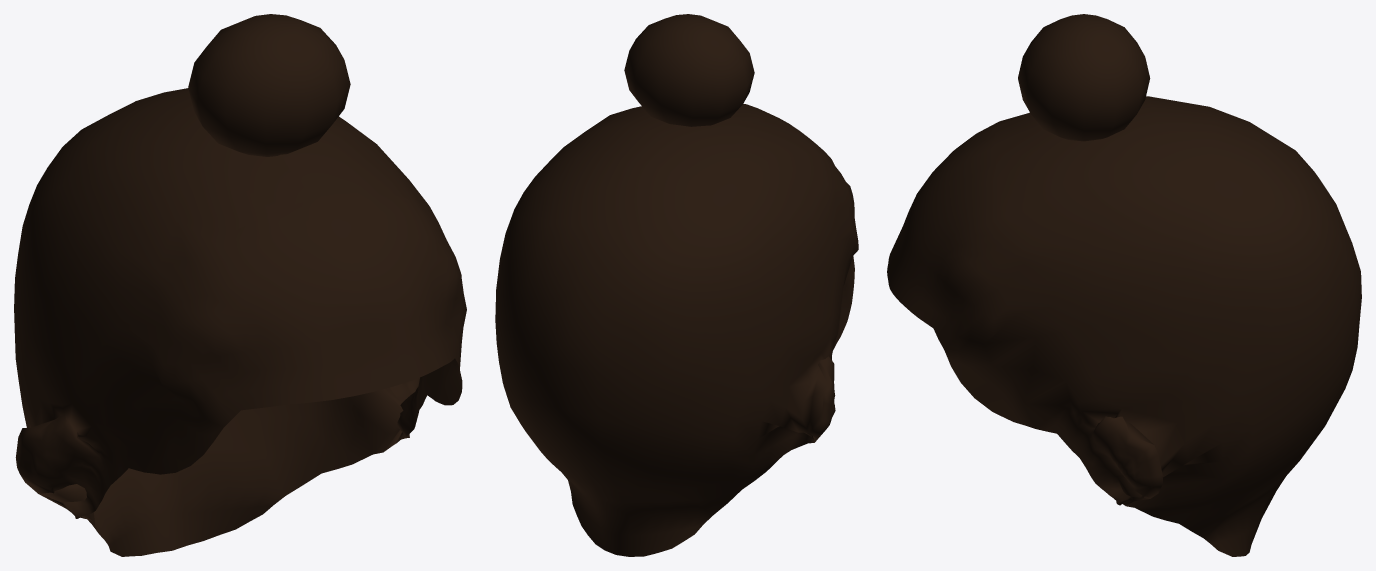
File: hair_top_knot.glb
The picture shows the model from 3 angles, left to right: view 1: azimuth 30°, elevation 25°; view 2: azimuth 150°, elevation 25°; view 3: azimuth 270°, elevation 25°; orthographic projection. The views are drawn at different scales.
Parts seen in each view (by area): view 1: hair_top_knot; view 2: hair_top_knot; view 3: hair_top_knot.
Part boxes in pixels (bbox=[...]): hair_top_knot: bbox=[14, 14, 466, 556]; hair_top_knot: bbox=[495, 14, 858, 556]; hair_top_knot: bbox=[887, 14, 1361, 556].
Bounding box in the file's own units: 0.1987 × 0.2768 × 0.2259.
